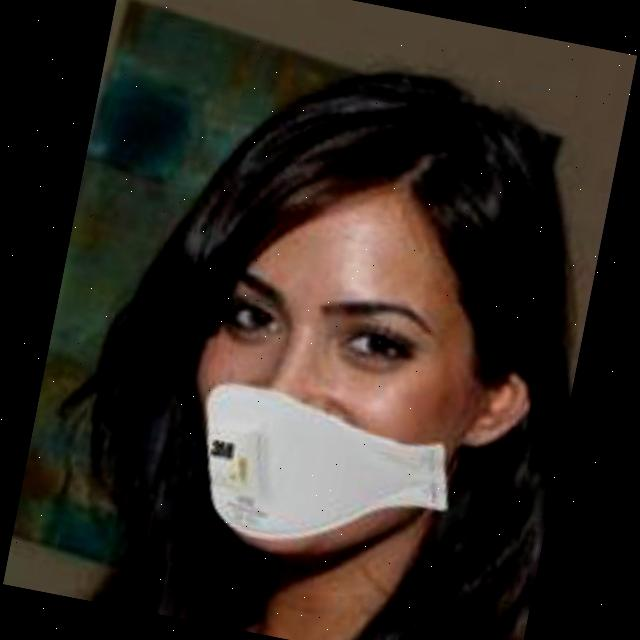suspicion: (82, 65, 574, 640)
